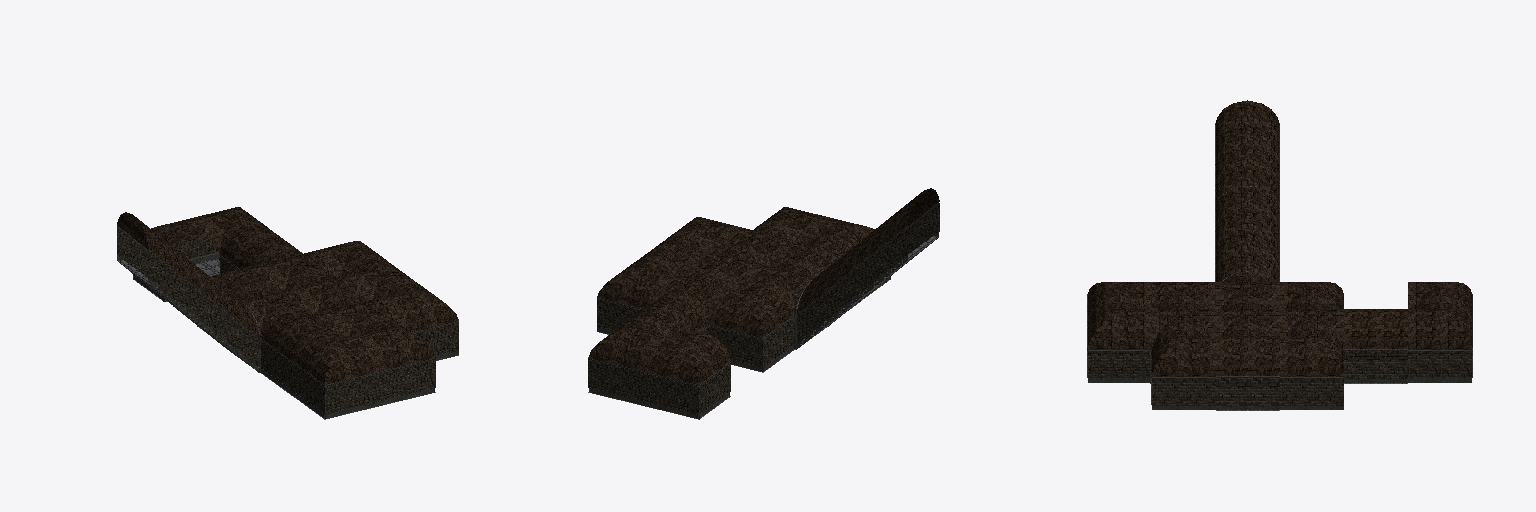
3 views of the same model, side by side, from view 1: azimuth 30°, elevation 25°; view 2: azimuth 150°, elevation 25°; view 3: azimuth 270°, elevation 25° (orthographic).
Visible parts, largest first — view 1: Plane.006_Plane.005, Plane.015_Plane.012, Plane.013_Plane.052, Plane.007_Plane.006, Plane.008_Plane.007, Plane, Plane.003_Plane.001, Plane.011_Plane.010, Plane.005_Plane.004, Plane.001_Plane.002, Plane.004_Plane.003, Plane.002_Plane.029 (+4 smaller); view 2: Plane.012_Plane.011, Plane.010_Plane.009, Plane.015_Plane.012, Plane.011_Plane.010, Plane.009_Plane.008, Plane, Plane.003_Plane.001, Plane.005_Plane.004, Plane.004_Plane.003, Plane.002_Plane.029, Plane.001_Plane.002, Plane.008_Plane.007 (+4 smaller); view 3: Plane.015_Plane.012, Plane, Plane.014_Plane.039, Plane.011_Plane.010, Plane.007_Plane.006, Plane.013_Plane.052, Plane.009_Plane.008, Plane.003_Plane.001, Plane.002_Plane.029, Plane.004_Plane.003, Plane.005_Plane.004, Plane.001_Plane.002 (+4 smaller).
Part boxes in pixels (left/top/right/bottom): Plane.006_Plane.005: left=293, top=332, right=379, bottom=419; Plane.015_Plane.012: left=117, top=212, right=203, bottom=327; Plane.013_Plane.052: left=354, top=318, right=435, bottom=405; Plane.007_Plane.006: left=377, top=281, right=458, bottom=360; Plane.008_Plane.007: left=260, top=308, right=345, bottom=395; Plane: left=173, top=262, right=259, bottom=372; Plane.003_Plane.001: left=220, top=224, right=298, bottom=285; Plane.011_Plane.010: left=188, top=207, right=267, bottom=276; Plane.005_Plane.004: left=237, top=285, right=313, bottom=372; Plane.001_Plane.002: left=290, top=271, right=368, bottom=313; Plane.004_Plane.003: left=252, top=248, right=336, bottom=322; Plane.002_Plane.029: left=322, top=295, right=401, bottom=336; Plane.012_Plane.011: left=644, top=332, right=730, bottom=419; Plane.010_Plane.009: left=708, top=285, right=795, bottom=372; Plane.015_Plane.012: left=852, top=188, right=939, bottom=303; Plane.011_Plane.010: left=588, top=318, right=669, bottom=405; Plane.009_Plane.008: left=597, top=257, right=678, bottom=334; Plane: left=797, top=238, right=881, bottom=348; Plane.003_Plane.001: left=629, top=295, right=707, bottom=336; Plane.005_Plane.004: left=742, top=261, right=828, bottom=349; Plane.004_Plane.003: left=654, top=271, right=733, bottom=325; Plane.002_Plane.029: left=719, top=224, right=804, bottom=288; Plane.001_Plane.002: left=687, top=248, right=766, bottom=289; Plane.008_Plane.007: left=774, top=238, right=859, bottom=310; Plane.015_Plane.012: left=1215, top=100, right=1279, bottom=207; Plane: left=1215, top=186, right=1279, bottom=326; Plane.014_Plane.039: left=1216, top=326, right=1279, bottom=410; Plane.011_Plane.010: left=1408, top=298, right=1472, bottom=382; Plane.007_Plane.006: left=1151, top=326, right=1215, bottom=409; Plane.013_Plane.052: left=1087, top=298, right=1151, bottom=382; Plane.009_Plane.008: left=1280, top=326, right=1343, bottom=409; Plane.003_Plane.001: left=1344, top=309, right=1407, bottom=383; Plane.002_Plane.029: left=1150, top=299, right=1215, bottom=383; Plane.004_Plane.003: left=1280, top=299, right=1344, bottom=346; Plane.005_Plane.004: left=1216, top=272, right=1279, bottom=335; Plane.001_Plane.002: left=1216, top=299, right=1279, bottom=335.
Size of the model in its own units: 20.09 by 12.05 by 24.05.
8 materials, 7 textured.